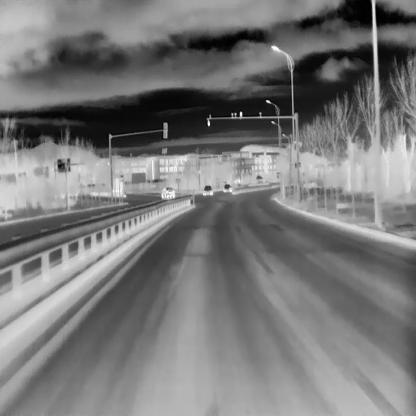car: (160, 186, 175, 199), (202, 184, 213, 195), (223, 183, 232, 192)
